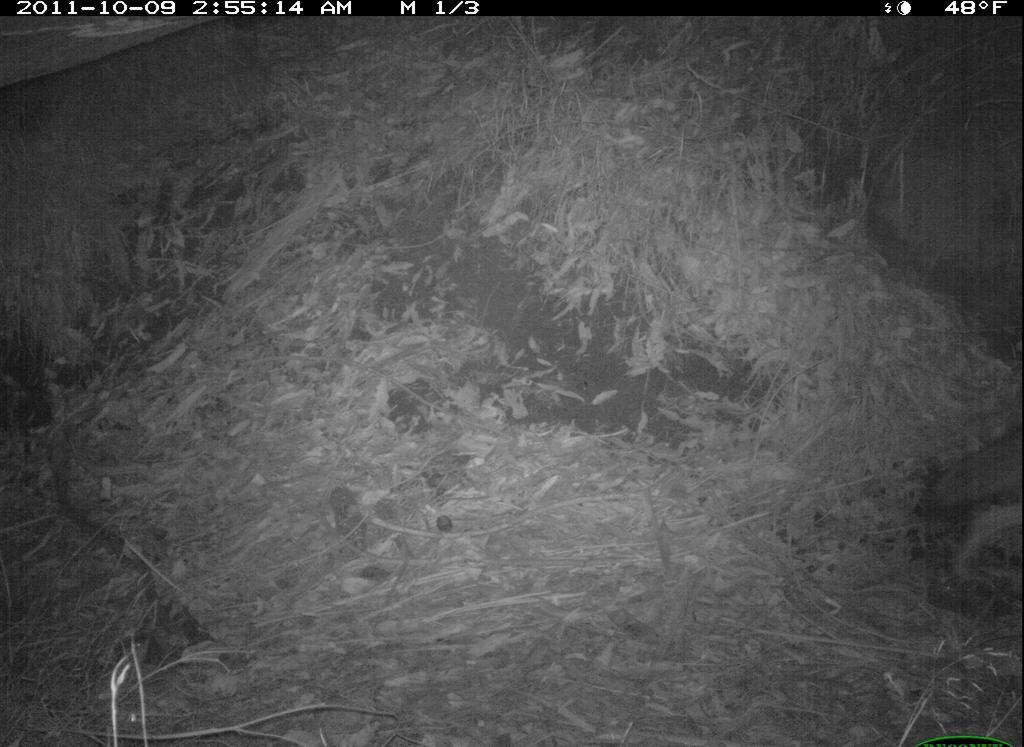coyote: (897, 382, 1023, 605)
